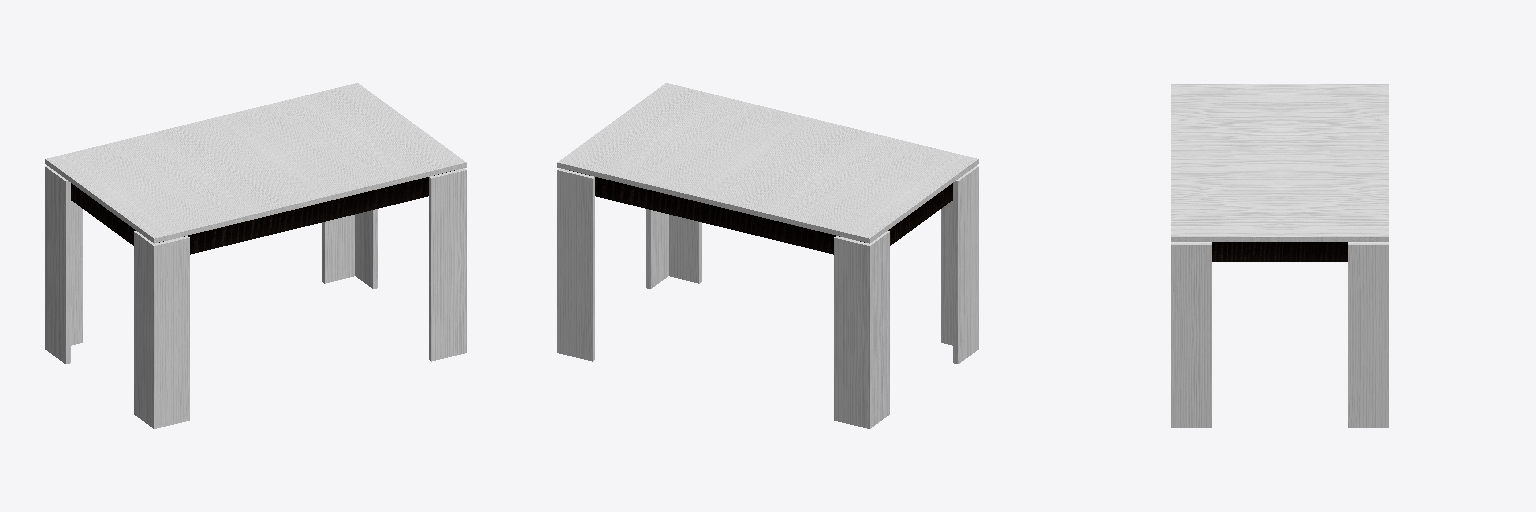
3 views of the same model, side by side, from view 1: azimuth 30°, elevation 25°; view 2: azimuth 150°, elevation 25°; view 3: azimuth 270°, elevation 25° (orthographic).
Parts seen in each view (by area): view 1: Box001, Rectangle002, Rectangle001; view 2: Box001, Rectangle002, Rectangle001; view 3: Box001, Rectangle002, Rectangle001.
Part boxes in pixels (left/top/right/bottom): Box001: left=45, top=83, right=466, bottom=243; Rectangle002: left=45, top=166, right=466, bottom=428; Rectangle001: left=71, top=170, right=454, bottom=254; Box001: left=557, top=83, right=978, bottom=243; Rectangle002: left=557, top=166, right=978, bottom=428; Rectangle001: left=569, top=170, right=952, bottom=254; Box001: left=1171, top=84, right=1388, bottom=241; Rectangle002: left=1171, top=242, right=1388, bottom=427; Rectangle001: left=1212, top=242, right=1347, bottom=261.
Bounding box in the file's own units: 0.052 × 0.0303 × 0.0314.
Materials: 2 (2 with a texture image).